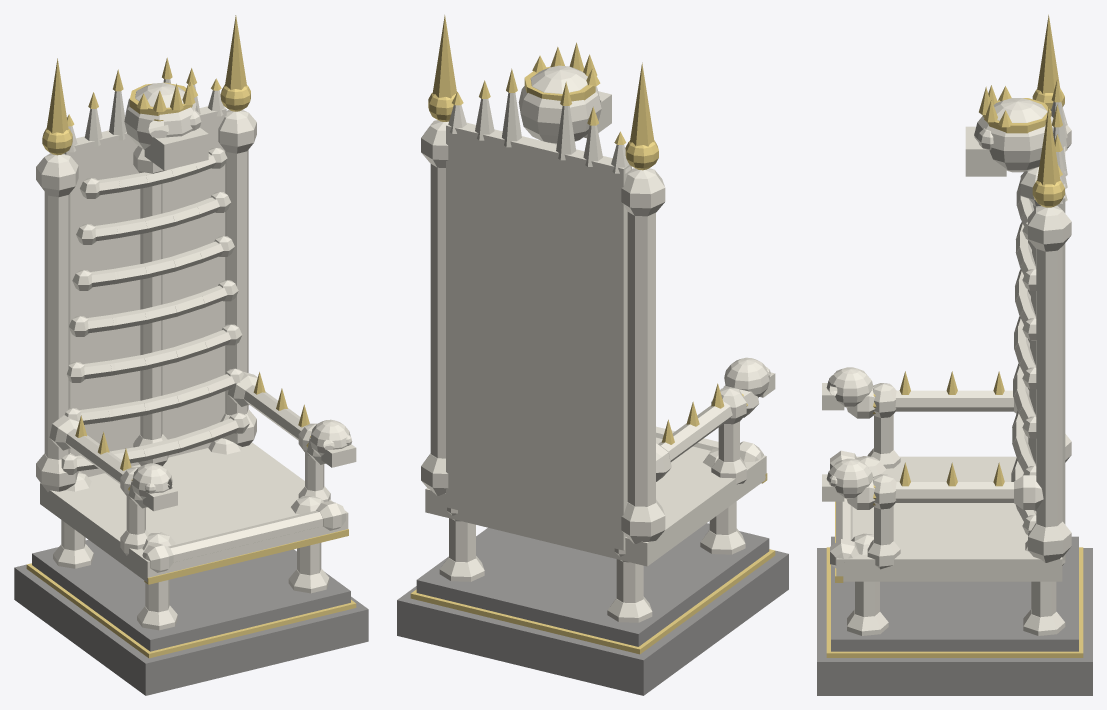
File: aldrich_count_throne.fbx
3 renders of one model, left to right at view 1: azimuth 30°, elevation 25°; view 2: azimuth 150°, elevation 25°; view 3: azimuth 270°, elevation 25°, orthographic. The views are drawn at different scales.
Parts seen in each view (by area): view 1: aldrich_count_throne; view 2: aldrich_count_throne; view 3: aldrich_count_throne.
Boxes of the visible parts, left/top/right/bottom form: aldrich_count_throne: left=14, top=15, right=368, bottom=695; aldrich_count_throne: left=397, top=15, right=788, bottom=695; aldrich_count_throne: left=817, top=14, right=1092, bottom=695.
Bounding box in the file's own units: 0.94 × 2.23 × 0.96.
